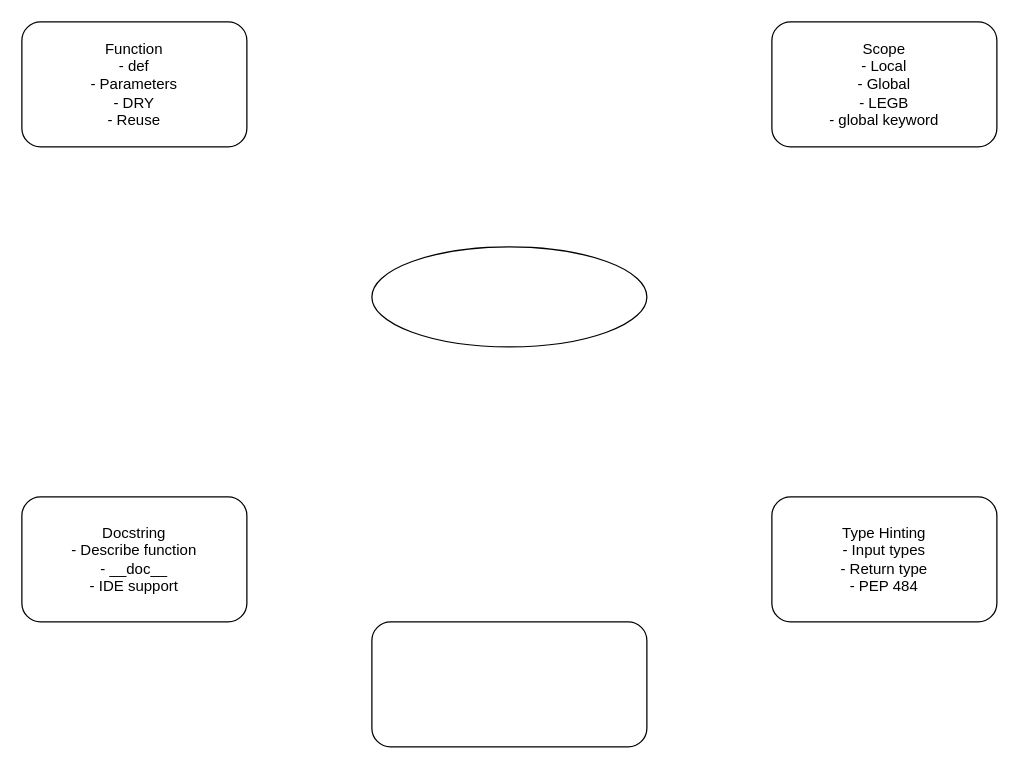
Image size: 1019x769. Some labels were removed from this diagram. The box of each missing label's shape, as (x1, y1, x2, y2) in pixels:
Best Practices - snake_case - One task/function - Avoid global: (371, 621, 647, 747)
PYTHON FUNCTIONS & BEST PRACTICES: (371, 246, 647, 347)
